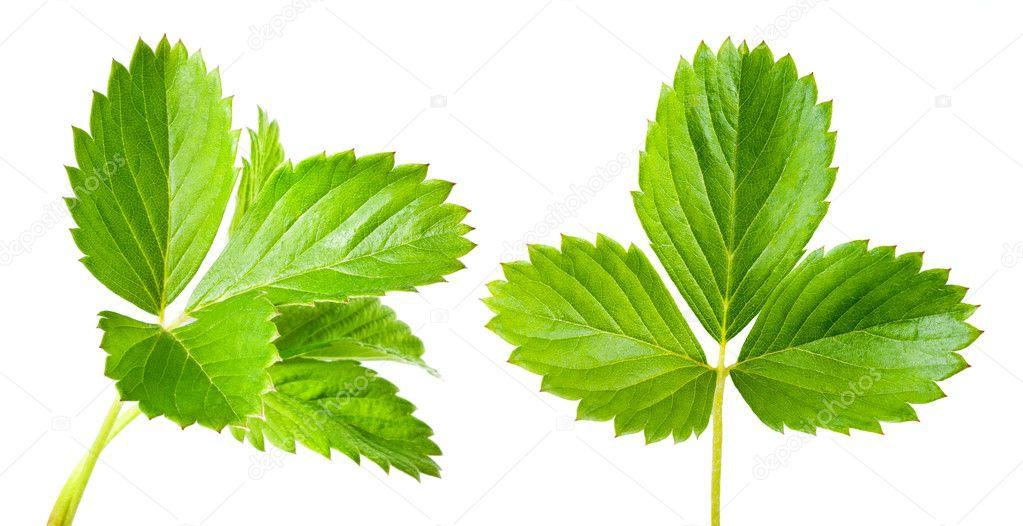Strawberry leaf: (633, 33, 839, 337), (61, 34, 244, 319), (476, 234, 721, 446), (747, 237, 990, 438), (215, 145, 480, 306), (96, 299, 290, 439)
